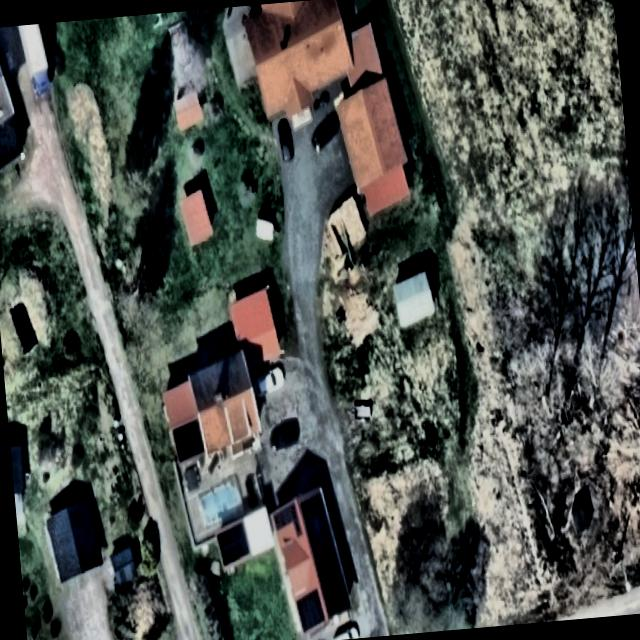roof_pv: (312, 540, 353, 621), (297, 489, 333, 561), (214, 521, 253, 567), (172, 416, 208, 462), (295, 590, 328, 632), (271, 504, 303, 541)
